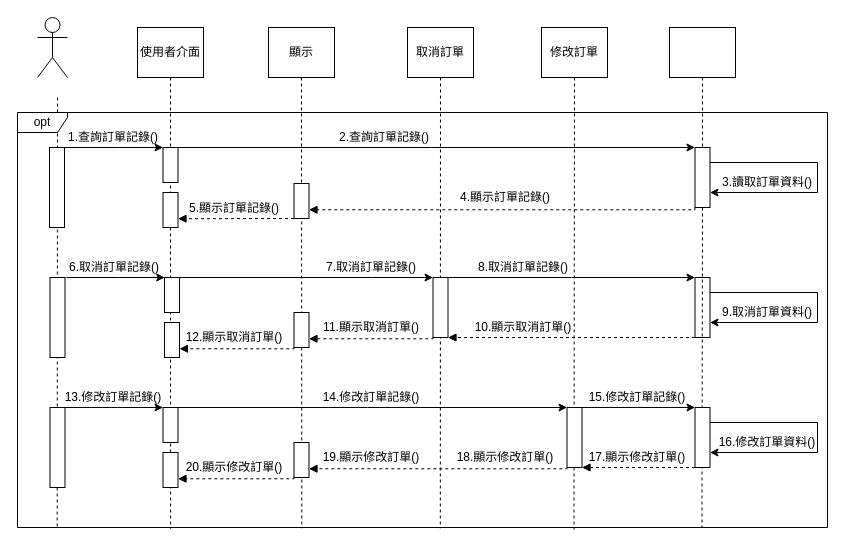
Some shapes in this 845 by 549 pixel diagram are drawn without their labels. The centre of each missing label's shape, as x and y in pixels:
"管理者" goes at point 52,47.
"訂單資料" goes at point 702,52.
